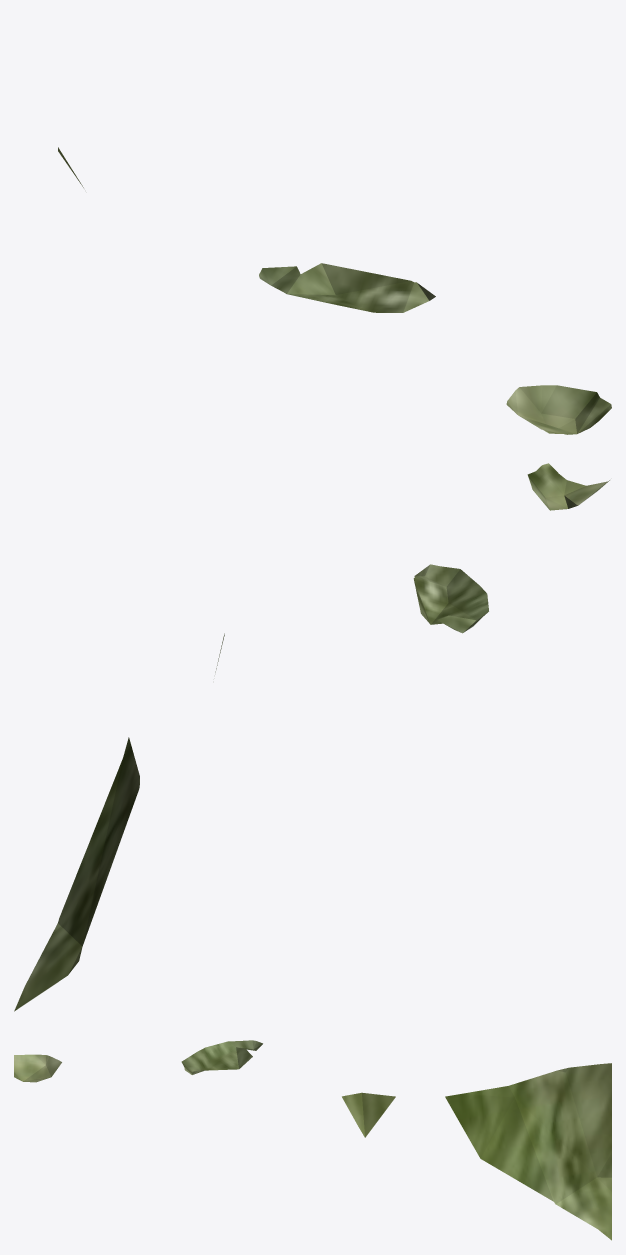
3 renders of one model, top to bottom at view 1: azimuth 30°, elevation 25°; view 2: azimuth 150°, elevation 25°; view 3: azimuth 270°, elevation 25°, orthographic. The views are drawn at different scales.
Bounding box in the file's own units: 0.6573 × 0.7843 × 2.95.
1 material, 1 textured.
